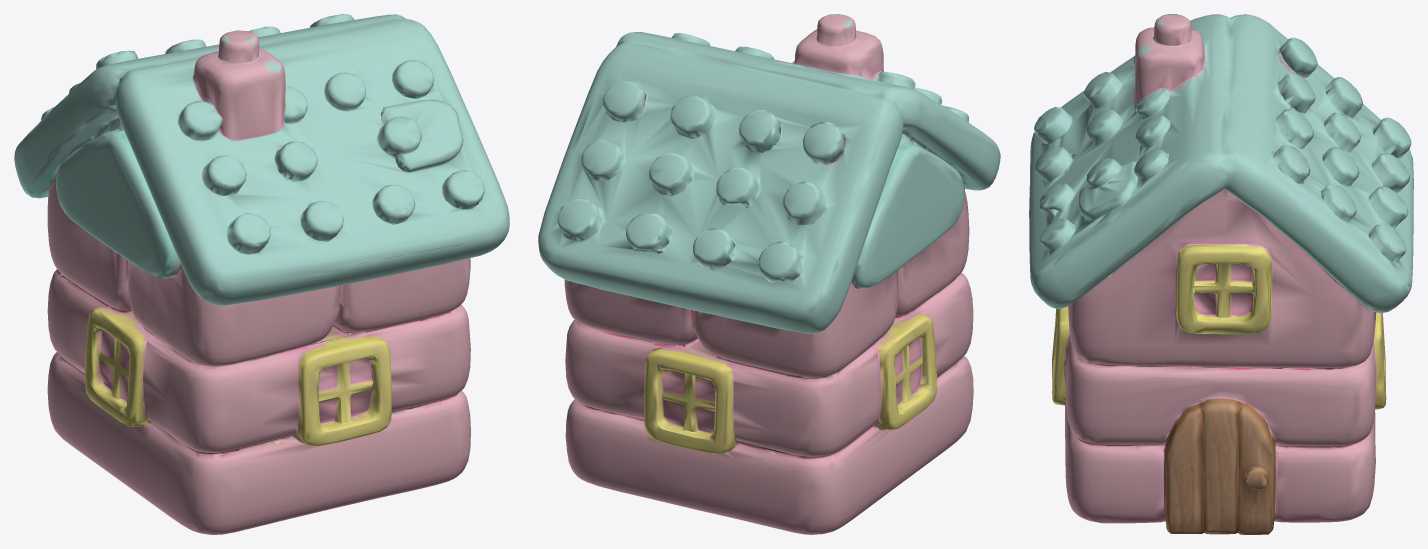
3 views of the same model, side by side, from view 1: azimuth 30°, elevation 25°; view 2: azimuth 150°, elevation 25°; view 3: azimuth 270°, elevation 25° (orthographic). The views are drawn at different scales.
Visible parts, largest first — view 1: repaired; view 2: repaired; view 3: repaired.
Boxes of the visible parts, <box> form: repaired: <box>14,14,509,534</box>; repaired: <box>538,14,1000,534</box>; repaired: <box>1029,14,1413,534</box>.
Bounding box in the file's own units: 0.7456 × 0.9997 × 0.8217.
1 material, 1 textured.
